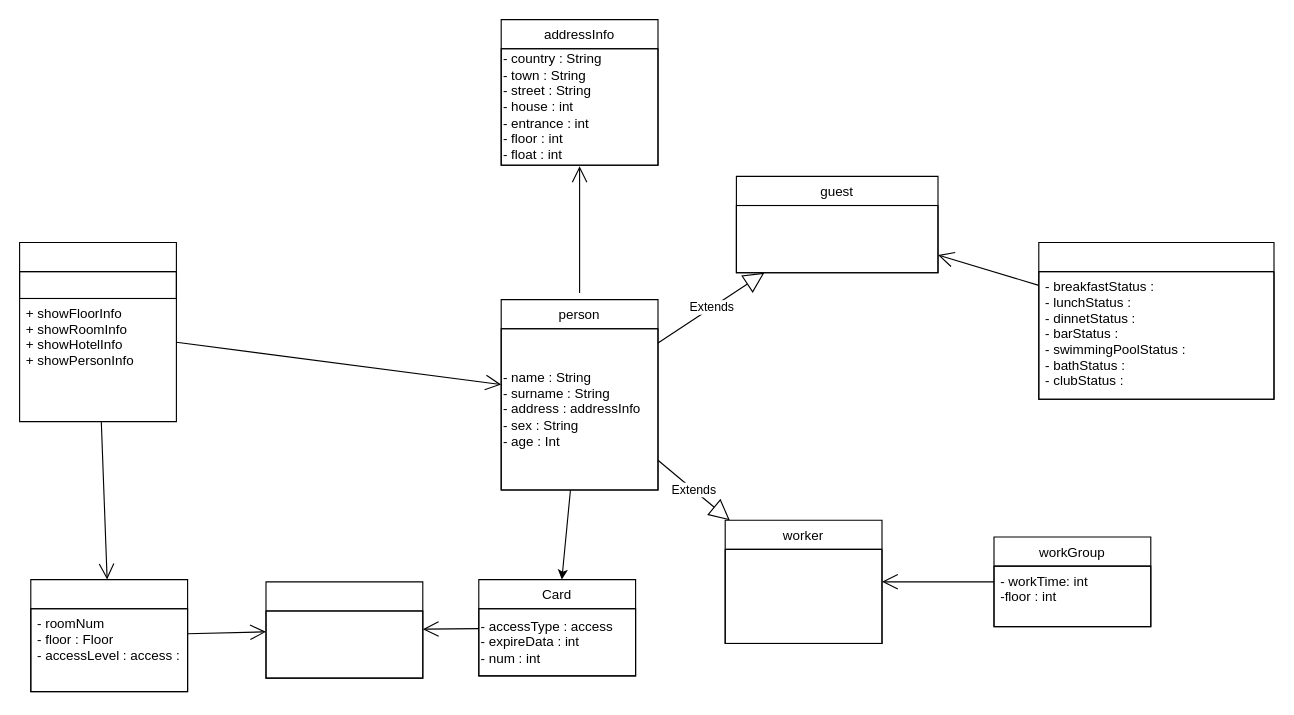
Some shapes in this 1294 by 715 pixel diagram are drawn without their labels. The shapes that lost their labels are listed below. From the top down, each one's box as (x1, y1, x2, y2) in pixels, then its label:
(735, 204, 938, 273): - room : int - status : packageOfService
(18, 241, 176, 422): reseption
(1038, 241, 1274, 399): packageOfService
(724, 548, 882, 643): - expearance : int - salary : int - position : workGroup
(30, 578, 188, 692): Rooms
(265, 581, 423, 678): access
